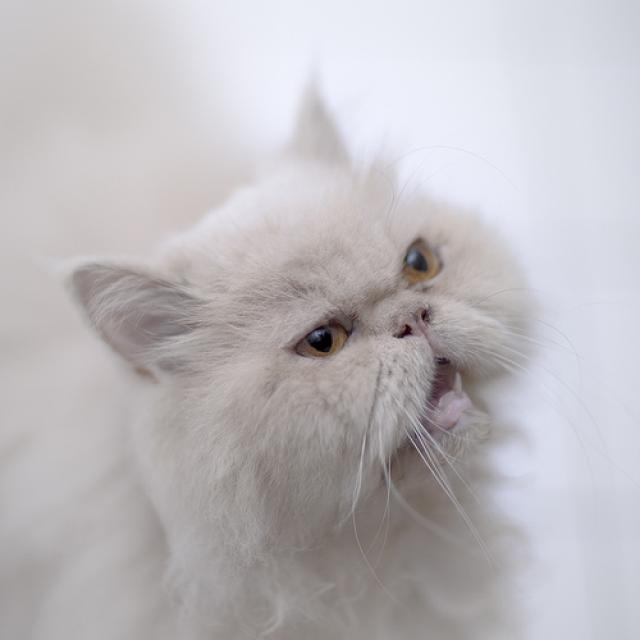cat: (53, 64, 581, 640)
